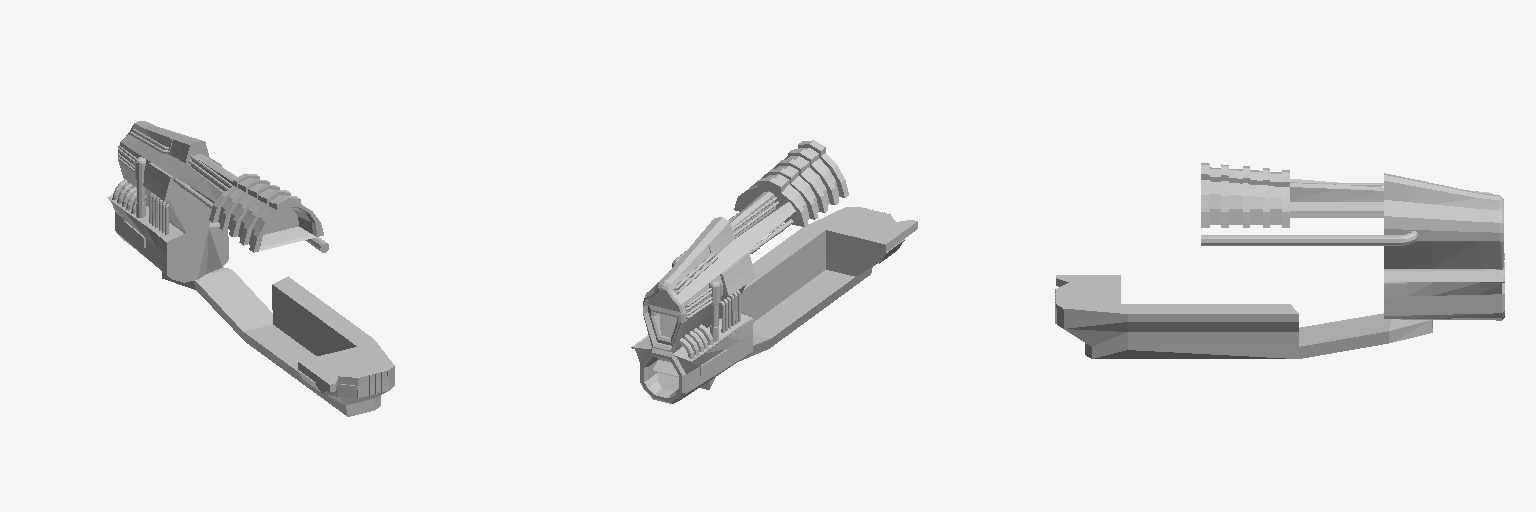
The model's file is Ship_Shell.obj.
3 views of the same model, side by side, from view 1: azimuth 30°, elevation 25°; view 2: azimuth 150°, elevation 25°; view 3: azimuth 270°, elevation 25° (orthographic).
Visible parts, largest first — view 1: default; view 2: default; view 3: default.
Boxes of the visible parts, x1,y1,x2,y2 form: default: [107, 121, 394, 416]; default: [631, 140, 917, 403]; default: [1055, 163, 1504, 358].
Size of the model in its own units: 173 by 348 by 804.